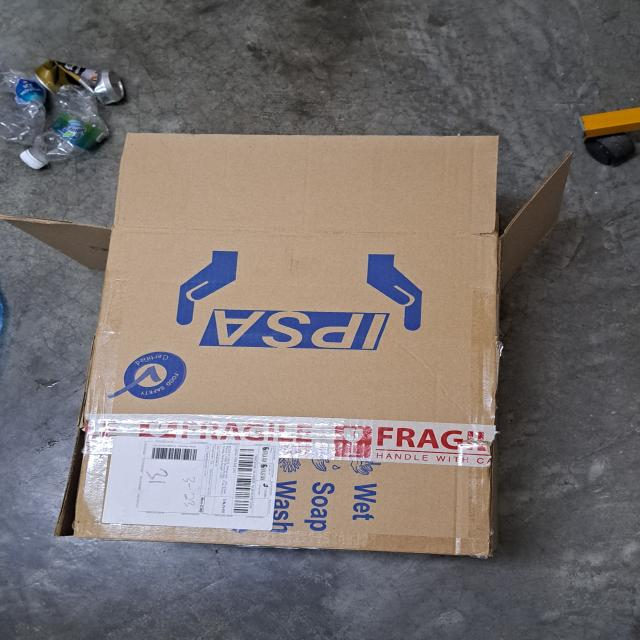can: (34, 58, 126, 105)
cardboard: (0, 132, 572, 560)
plastic bottle: (32, 84, 110, 164), (0, 68, 45, 143)
plastic bottle cap: (19, 149, 44, 170)
